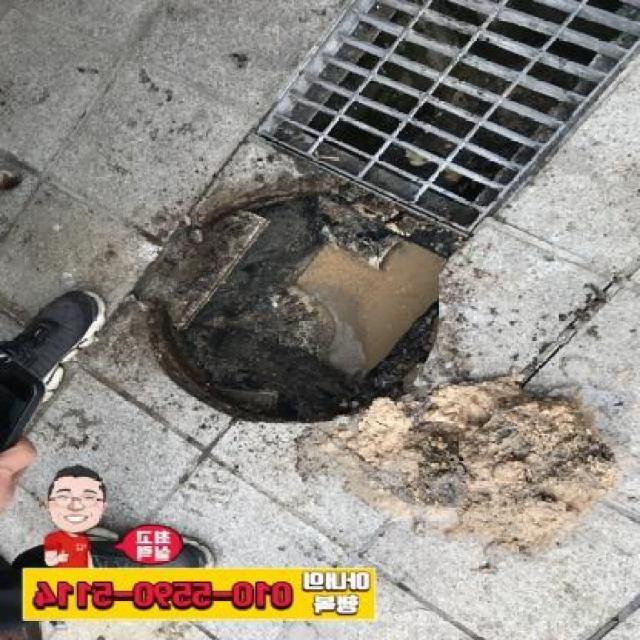Drain Hole: (250, 24, 627, 178)
